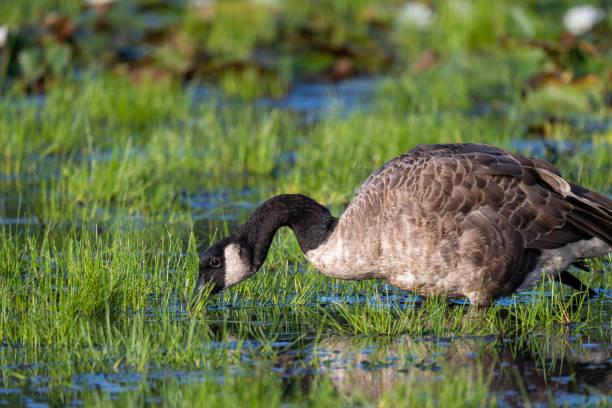Canadian-Goose: (193, 140, 612, 318)
